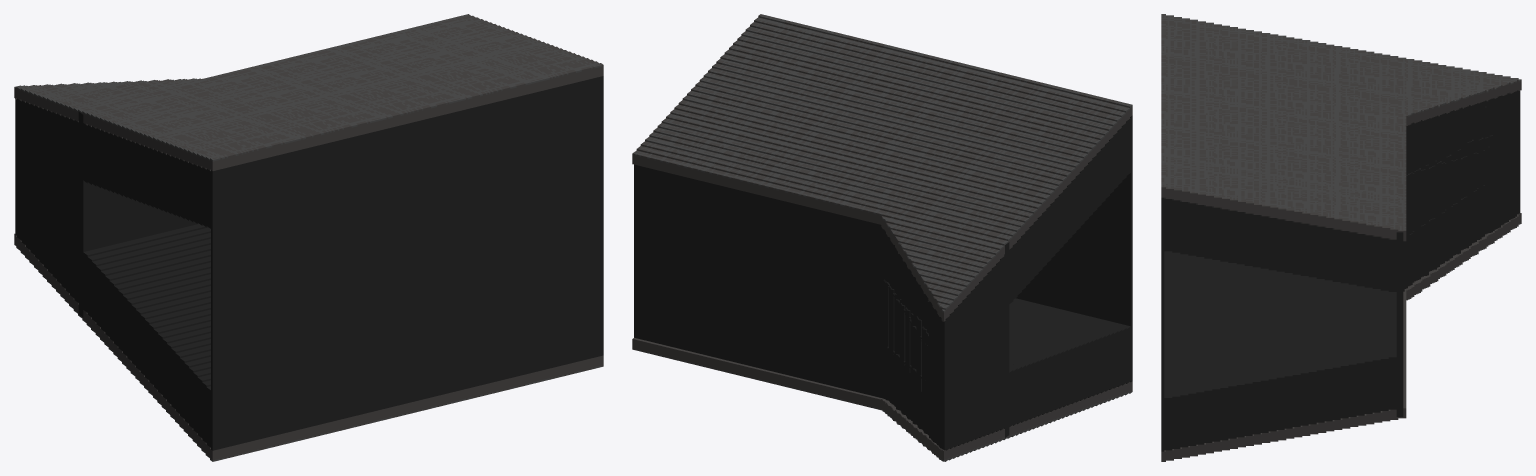
The model's file is Space ship-11.obj.
3 views of the same model, side by side, from view 1: azimuth 30°, elevation 25°; view 2: azimuth 150°, elevation 25°; view 3: azimuth 270°, elevation 25° (orthographic). The views are drawn at different scales.
Bounding box in the file's own units: 25.6 × 18.9 × 22.5.
Materials: 1 (1 with a texture image).
